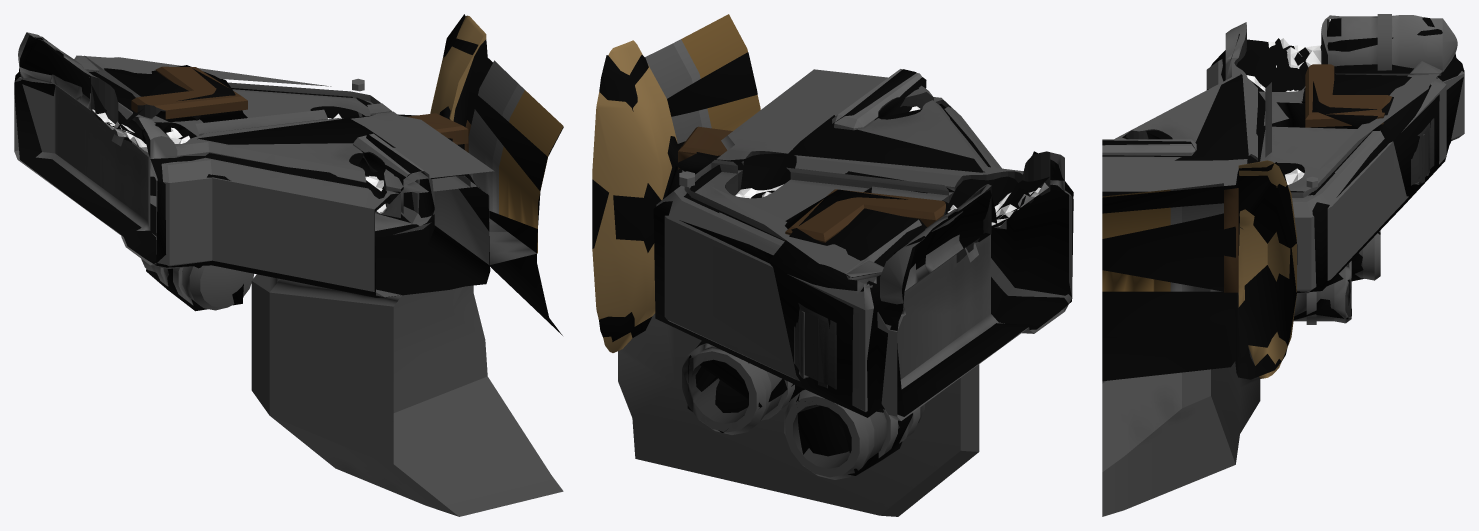
File: newsh4-12-d.glb
3 views of the same model, side by side, from view 1: azimuth 30°, elevation 25°; view 2: azimuth 150°, elevation 25°; view 3: azimuth 270°, elevation 25° (orthographic). The views are drawn at different scales.
Visible parts, largest first — view 1: newsh4-12, newsh4-12_outline; view 2: newsh4-12, newsh4-12_outline; view 3: newsh4-12, newsh4-12_outline.
Part boxes in pixels (box(x1,y1,x2,y2)): newsh4-12: box(14, 15, 563, 516); newsh4-12_outline: box(14, 14, 563, 335); newsh4-12: box(592, 14, 1072, 516); newsh4-12_outline: box(592, 52, 1073, 475); newsh4-12: box(1102, 14, 1464, 516); newsh4-12_outline: box(1102, 17, 1463, 381).
Bounding box in the file's own units: 2 × 2.26 × 2.08.
14 materials, 13 textured.
